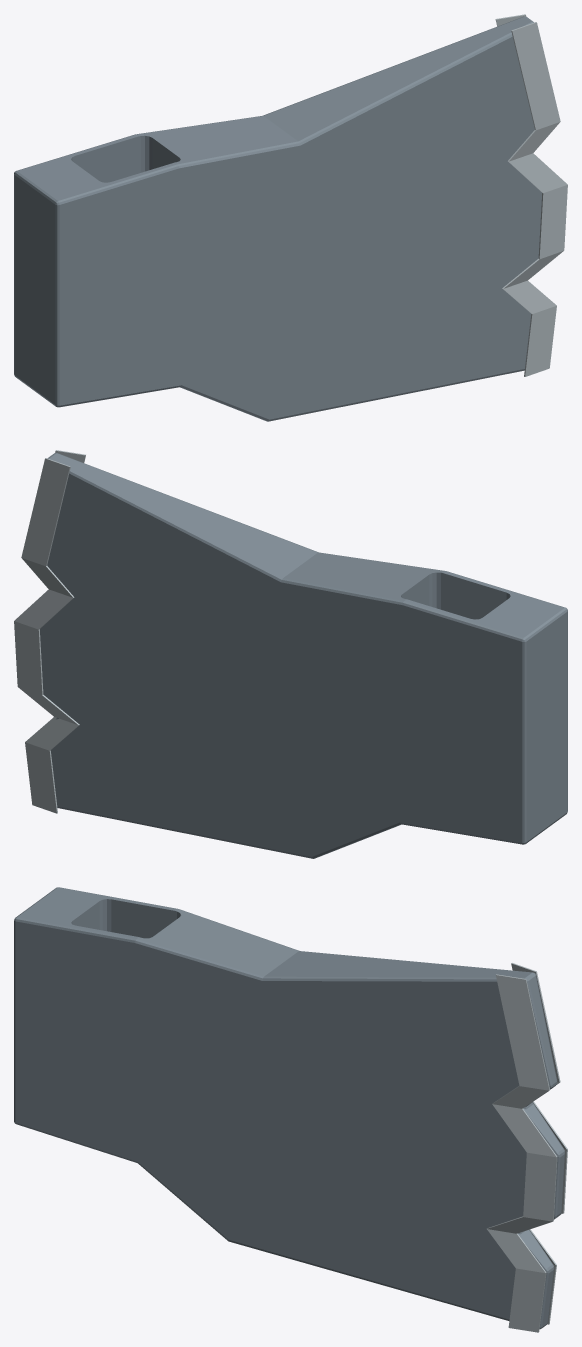
Rendered from axe_head_chipped.glb.
3 renders of one model, top to bottom at view 1: azimuth 30°, elevation 25°; view 2: azimuth 150°, elevation 25°; view 3: azimuth 330°, elevation 25°, orthographic.
Parts seen in each view (by area): view 1: Chipped forged axe head, Worn cutting bevel; view 2: Chipped forged axe head, Worn cutting bevel.001; view 3: Chipped forged axe head, Worn cutting bevel, Worn cutting bevel.001.
Boxes of the visible parts, bbox=[...] form: Chipped forged axe head: bbox=[14, 16, 542, 421]; Worn cutting bevel: bbox=[502, 22, 567, 376]; Chipped forged axe head: bbox=[40, 453, 567, 858]; Worn cutting bevel.001: bbox=[14, 458, 79, 813]; Chipped forged axe head: bbox=[14, 887, 564, 1329]; Worn cutting bevel: bbox=[487, 974, 557, 1332]; Worn cutting bevel.001: bbox=[511, 963, 567, 1324].
Size of the model in its own units: 0.2891 by 0.183 by 0.0421.
